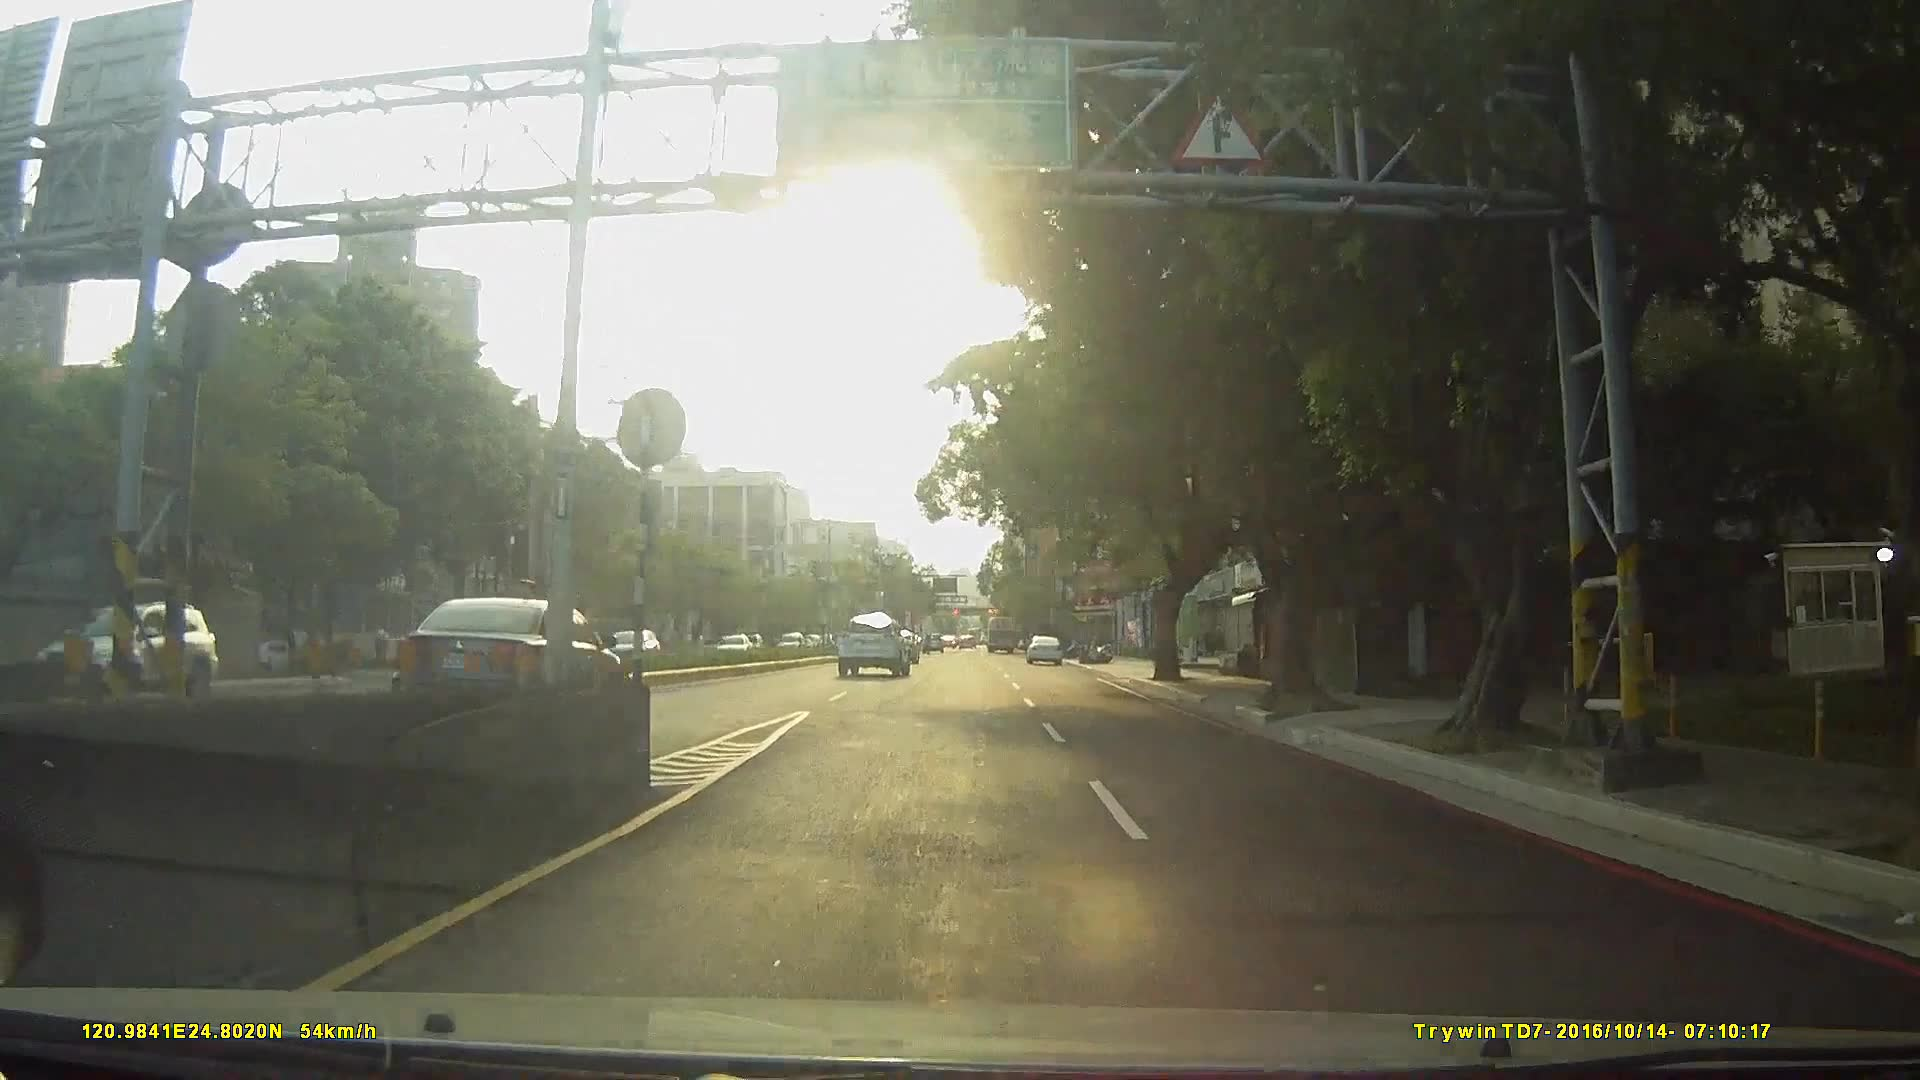pedestrian: (374, 623, 395, 676)
vehicle: (390, 595, 627, 730), (835, 611, 912, 678), (1024, 631, 1064, 664), (985, 613, 1017, 653)
